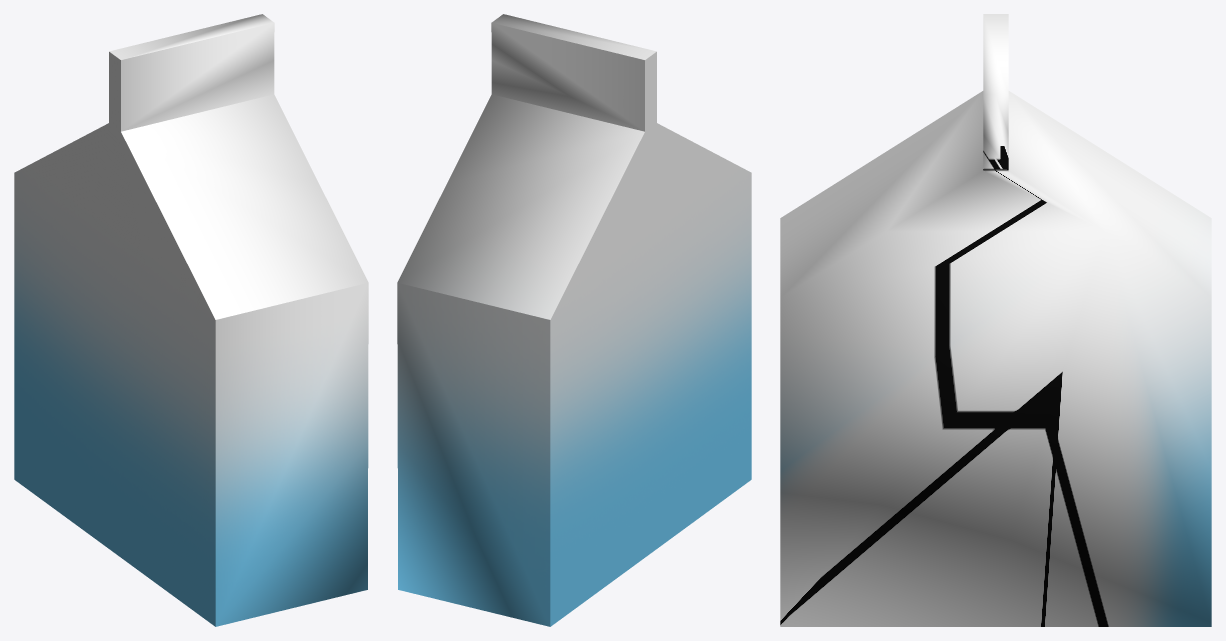
File: milk02.fbx
The picture shows the model from 3 angles, left to right: view 1: azimuth 30°, elevation 25°; view 2: azimuth 150°, elevation 25°; view 3: azimuth 270°, elevation 25°; orthographic projection. The views are drawn at different scales.
Visible parts, largest first — view 1: Milk.001; view 2: Milk.001; view 3: Milk.001.
Boxes of the visible parts, <box> form: Milk.001: <box>14,14,368,626</box>; Milk.001: <box>397,14,751,626</box>; Milk.001: <box>780,14,1211,626</box>.
Size of the model in its own units: 7.15 by 22.12 by 16.22.
